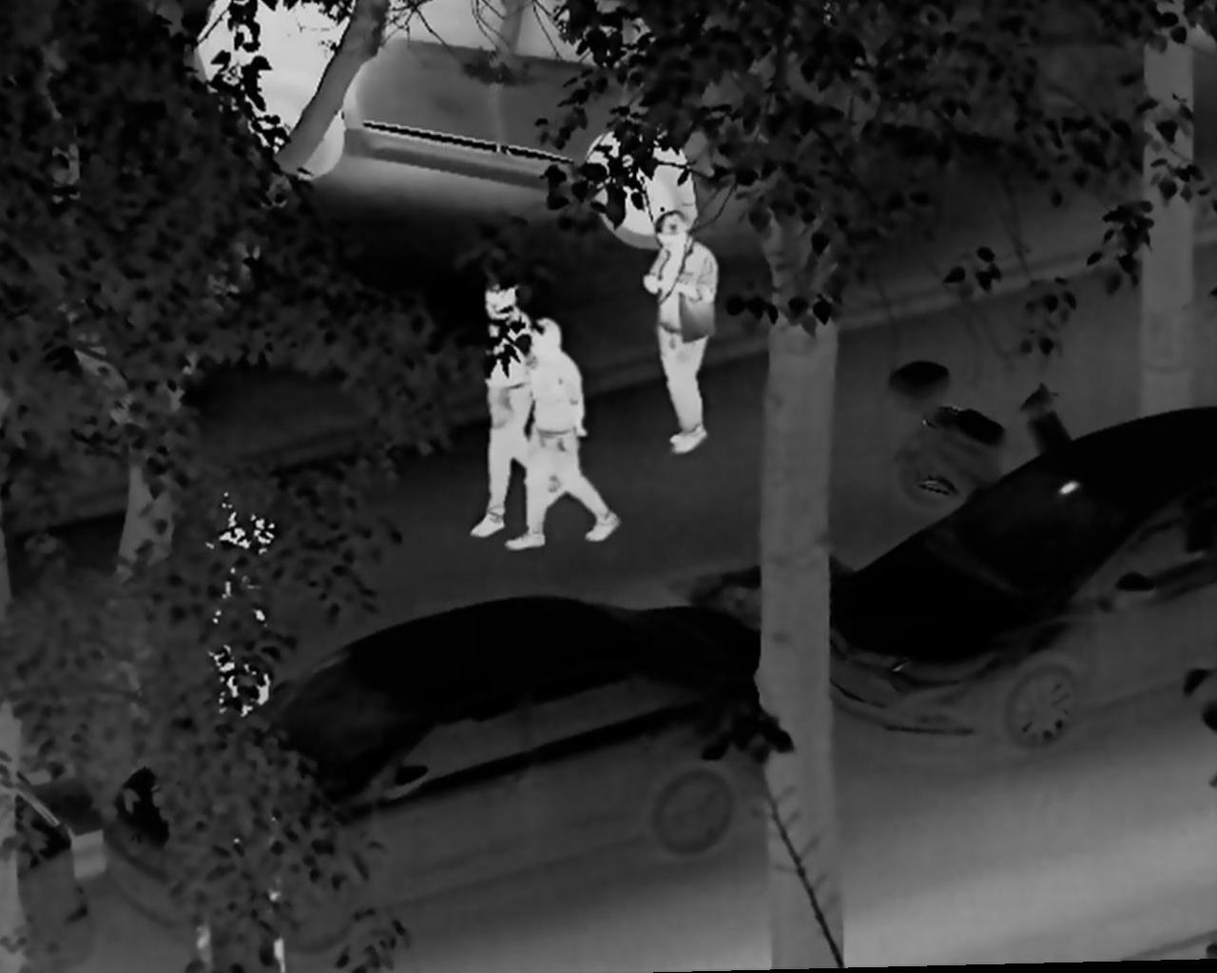person: (504, 315, 625, 554), (471, 277, 572, 540), (636, 213, 731, 458), (200, 484, 291, 725)
